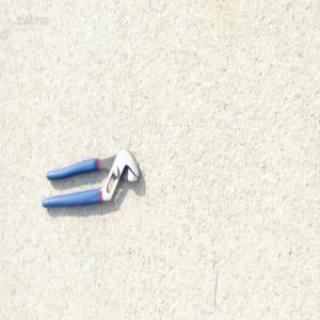Pliertrack_idkeyframe: (39, 145, 140, 211)
